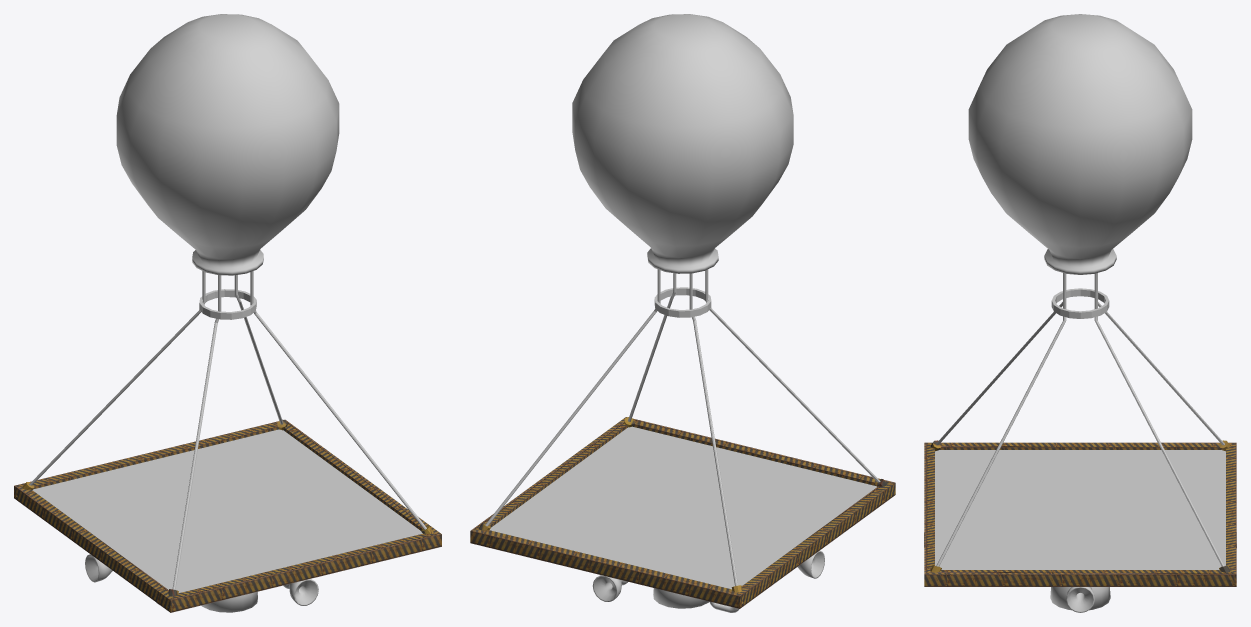
Rendered from floating_platform.fbx.
The picture shows the model from 3 angles, left to right: view 1: azimuth 30°, elevation 25°; view 2: azimuth 150°, elevation 25°; view 3: azimuth 270°, elevation 25°; orthographic projection.
Visible parts, largest first — view 1: Cube.022; view 2: Cube.022; view 3: Cube.022.
Boxes of the visible parts, x1,y1,x2,y2 form: Cube.022: [14, 14, 441, 612]; Cube.022: [470, 14, 895, 612]; Cube.022: [924, 14, 1236, 612].
Bounding box in the file's own units: 201 × 404 × 201.
